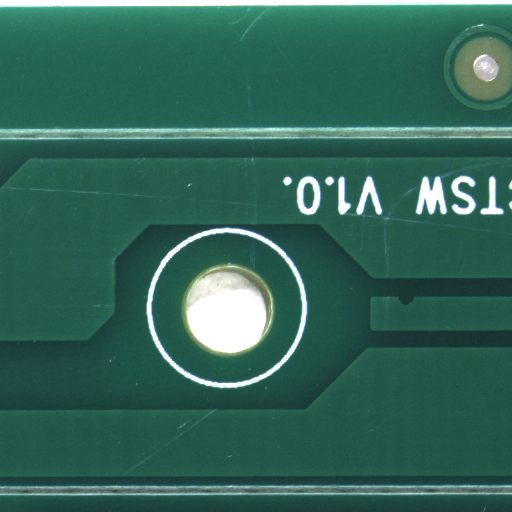Mouse_bite: (407, 301, 421, 311)
